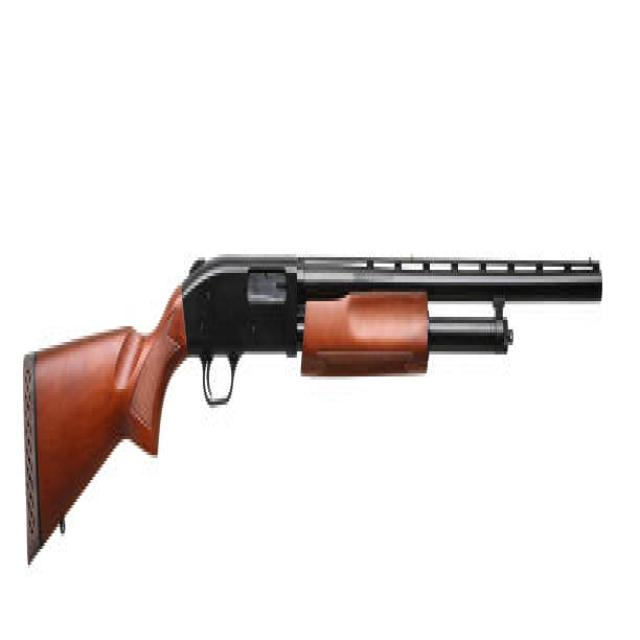rifle: (20, 244, 609, 572)
